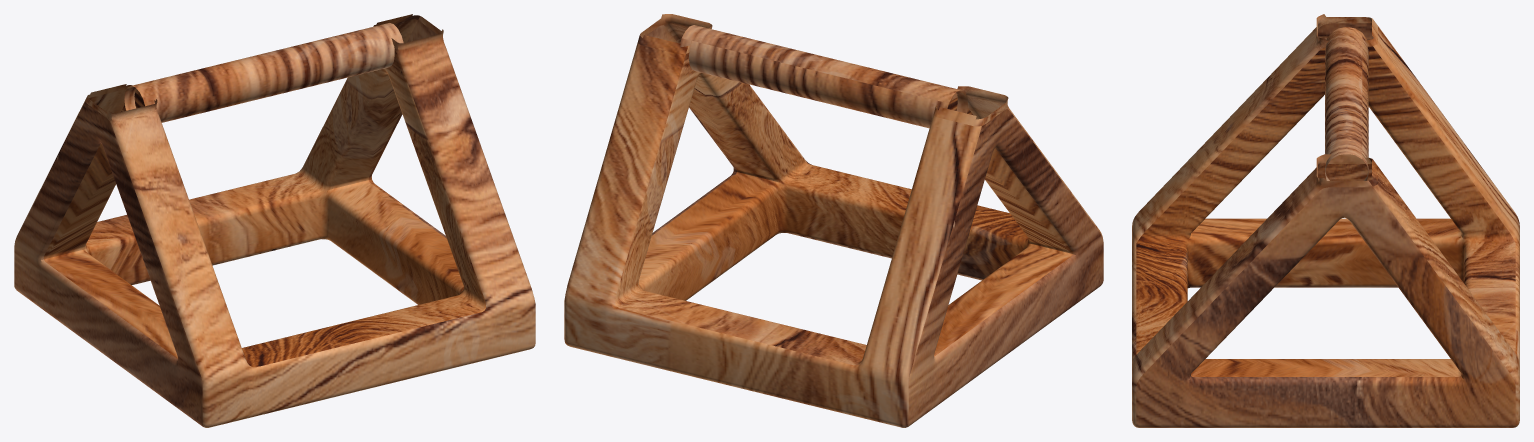
File: BaseCatapulta.obj
3 renders of one model, left to right at view 1: azimuth 30°, elevation 25°; view 2: azimuth 150°, elevation 25°; view 3: azimuth 270°, elevation 25°, orthographic. The views are drawn at different scales.
Visible parts, largest first — view 1: BASE_wood; view 2: BASE_wood; view 3: BASE_wood.
Boxes of the visible parts, x1,y1,x2,y2 form: BASE_wood: (14, 14, 535, 427); BASE_wood: (564, 14, 1103, 427); BASE_wood: (1132, 14, 1519, 427).
Size of the model in its own units: 0.6784 by 0.4982 by 0.6784.
